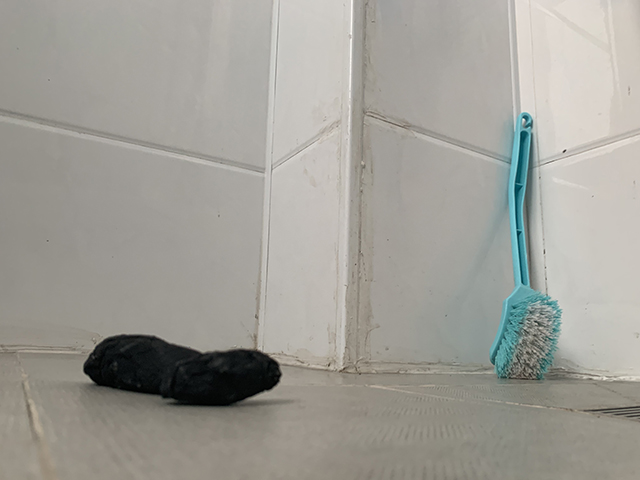feces: (80, 333, 283, 409)
